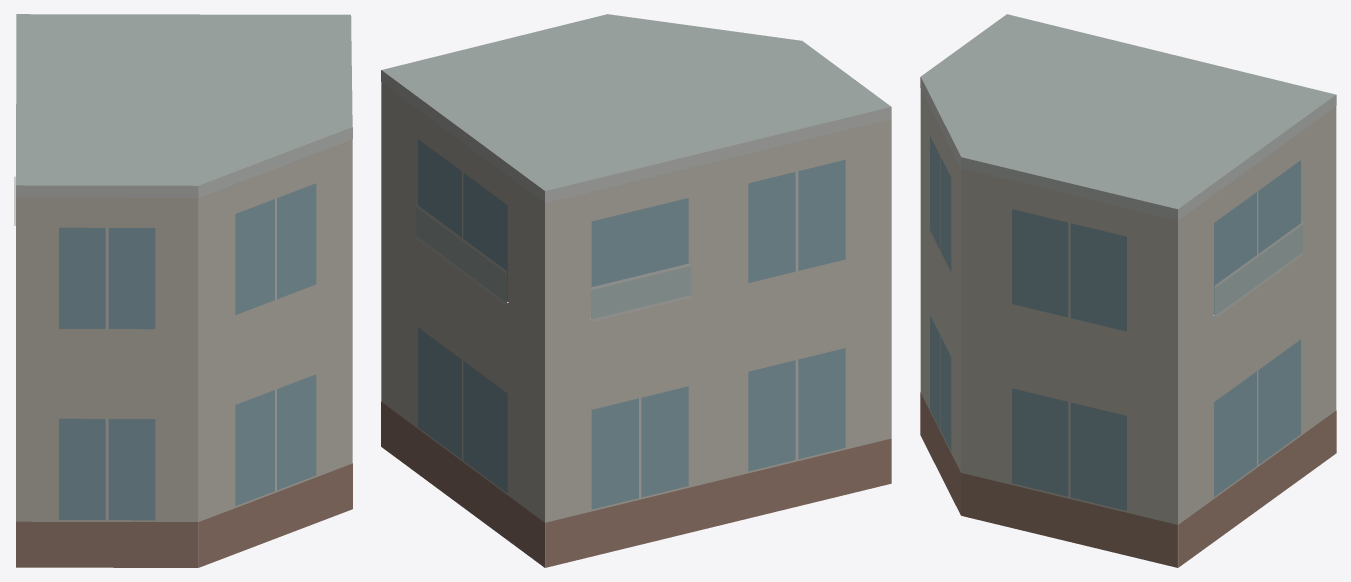
Rendered from survey-upis-32495913.glb.
3 renders of one model, left to right at view 1: azimuth 30°, elevation 25°; view 2: azimuth 150°, elevation 25°; view 3: azimuth 270°, elevation 25°, orthographic. The views are drawn at different scales.
Visible parts, largest first — view 1: survey-upis-32495913.tmp; view 2: survey-upis-32495913.tmp; view 3: survey-upis-32495913.tmp.
Boxes of the visible parts, x1,y1,x2,y2 form: survey-upis-32495913.tmp: (14, 14, 352, 567); survey-upis-32495913.tmp: (381, 14, 891, 567); survey-upis-32495913.tmp: (920, 14, 1336, 567).
Size of the model in its own units: 8.94 by 7.65 by 8.05.
